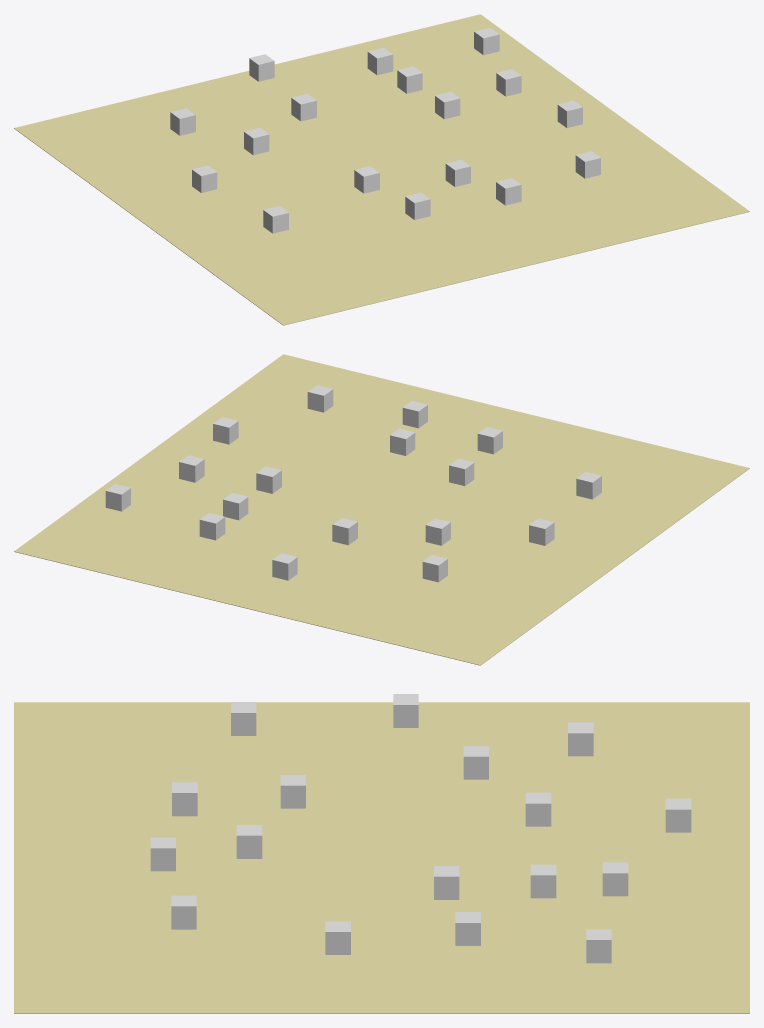
3 views of the same model, one above another, from view 1: azimuth 30°, elevation 25°; view 2: azimuth 150°, elevation 25°; view 3: azimuth 270°, elevation 25° (orthographic). The views are drawn at different scales.
Parts seen in each view (by area): view 1: Cube, Cube.014, Cube.004, Cube.012, Cube.006, Cube.007, Cube.008, Cube.009, Cube.010, Cube.013, Cube.015, Cube.016 (+6 smaller); view 2: Cube, Cube.008, Cube.014, Cube.007, Cube.001, Cube.002, Cube.003, Cube.006, Cube.009, Cube.010, Cube.016, Cube.017 (+6 smaller); view 3: Cube, Cube.014, Cube.015, Cube.016, Cube.013, Cube.006, Cube.001, Cube.004, Cube.008, Cube.012, Cube.007, Cube.002 (+6 smaller).
Part boxes in pixels (x1,y1,x2,y2): Cube: (14,14,749,325); Cube.014: (367,47,393,75); Cube.004: (405,192,430,219); Cube.012: (474,27,499,55); Cube.006: (445,159,470,186); Cube.007: (496,178,521,205); Cube.008: (575,151,600,178); Cube.009: (557,100,582,127); Cube.010: (496,69,521,96); Cube.013: (397,66,422,93); Cube.015: (291,94,316,121); Cube.016: (249,54,274,81); Cube: (14,354,749,665); Cube.008: (307,385,333,412); Cube.014: (199,513,225,540); Cube.007: (402,401,427,428); Cube.001: (422,555,447,582); Cube.002: (425,518,450,545); Cube.003: (576,472,601,499); Cube.006: (390,428,415,455); Cube.009: (213,417,238,444); Cube.010: (179,455,204,482); Cube.016: (272,553,297,580); Cube.017: (529,518,554,545); Cube: (14,702,749,1013); Cube.014: (602,862,628,896); Cube.015: (525,792,551,826); Cube.016: (665,798,691,832); Cube.013: (530,864,556,898); Cube.006: (236,825,262,858); Cube.001: (568,722,593,756); Cube.004: (172,782,197,816); Cube.008: (171,895,196,929); Cube.012: (586,929,611,963); Cube.007: (150,837,175,871); Cube.002: (463,746,488,779).
Size of the model in its own units: 57.75 by 4.03 by 57.75.
